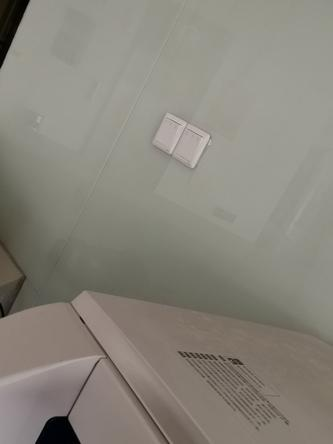switch: (171, 124, 205, 165), (150, 113, 182, 152)
